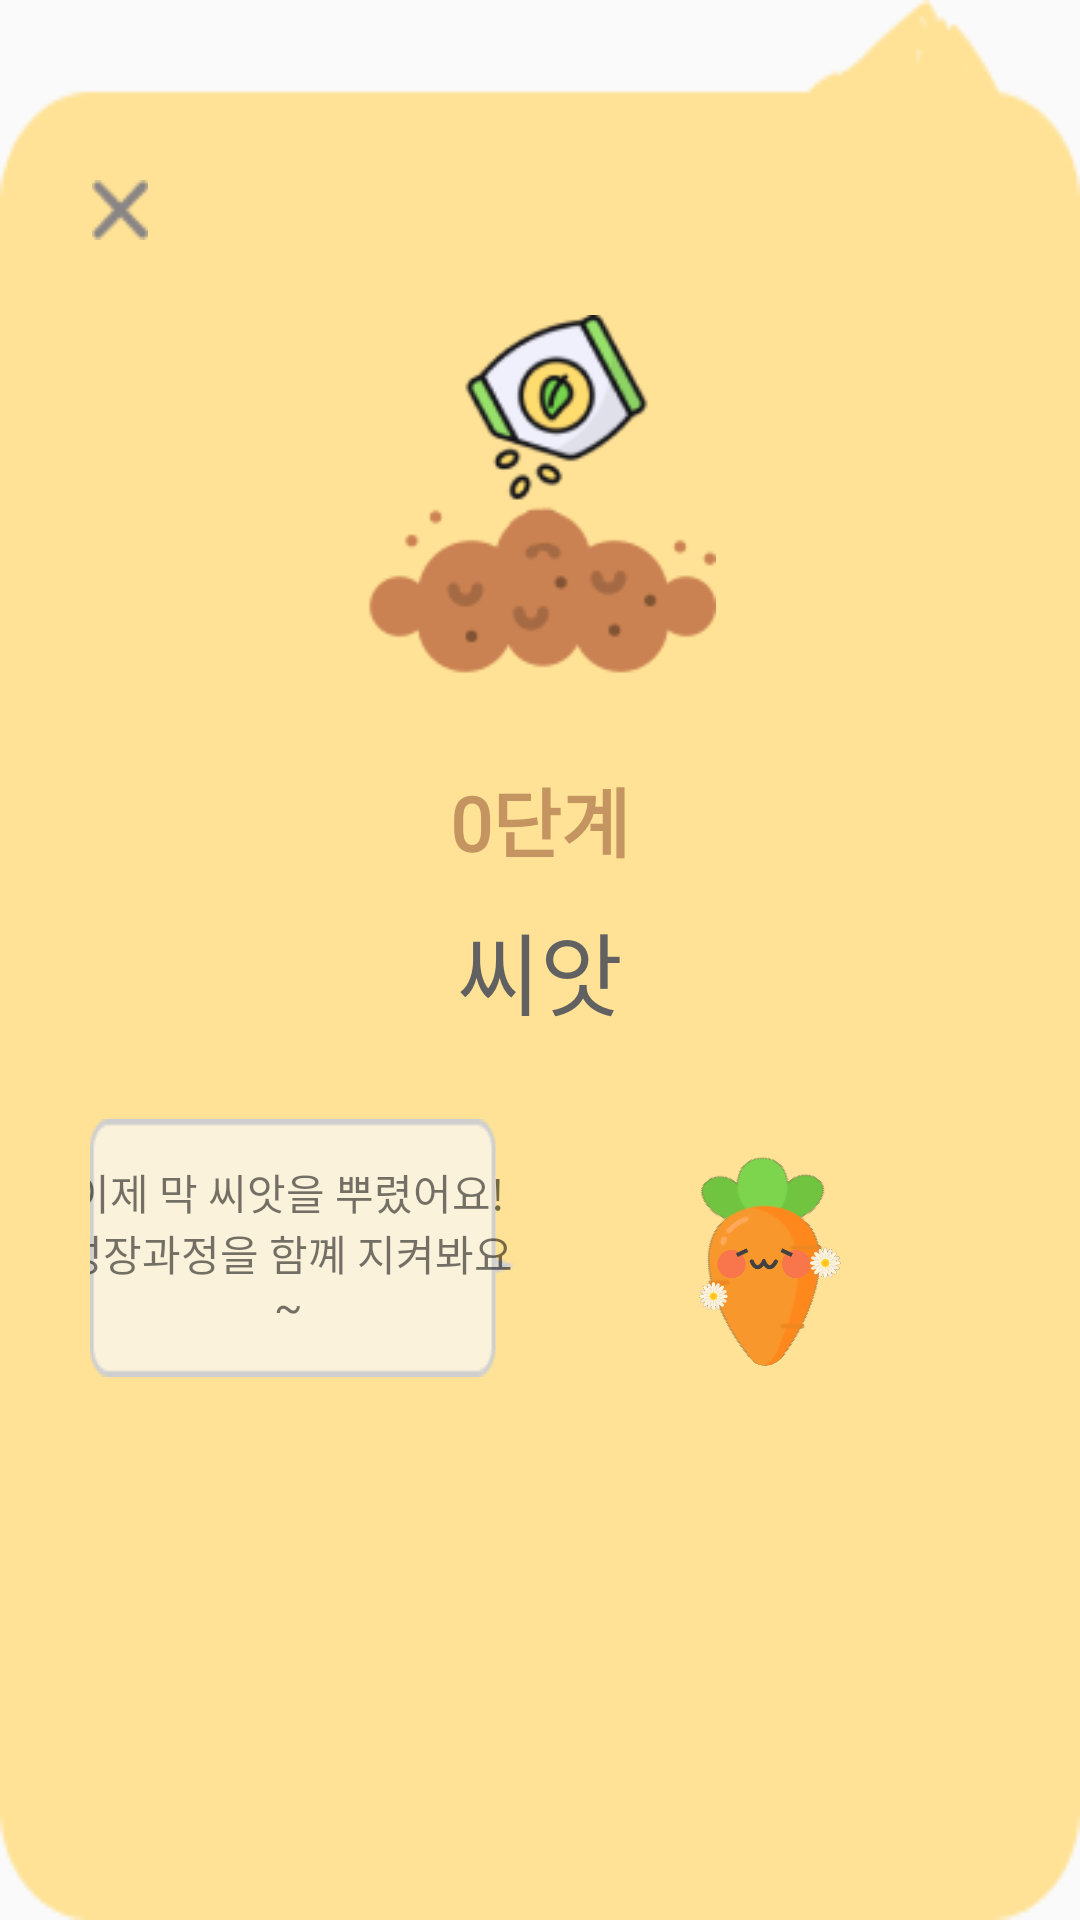

Screen size 1080*1920. Icon name, then its box in pixels as [x1,y1,x2,y2]:
cancel: [92,180,148,240]
crop level: [369,315,716,673]
proud: [699,1157,841,1366]
